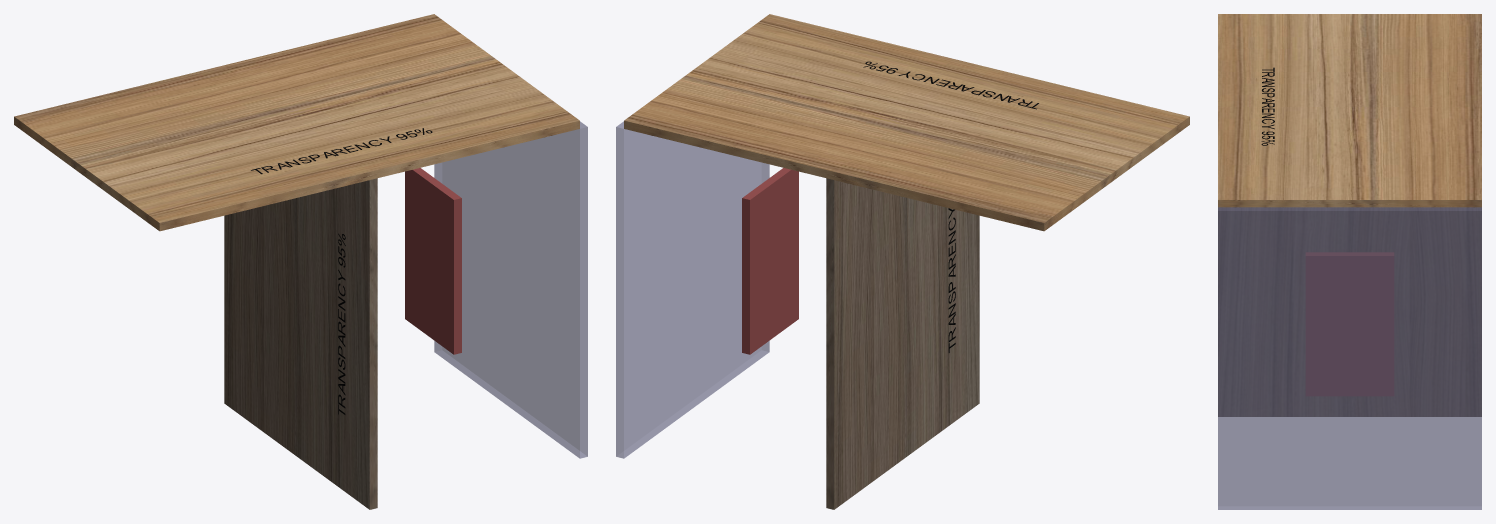
The model's file is twoParts-transparent95.dae.
The picture shows the model from 3 angles, left to right: view 1: azimuth 30°, elevation 25°; view 2: azimuth 150°, elevation 25°; view 3: azimuth 270°, elevation 25°; orthographic projection. The views are drawn at different scales.
Visible parts, largest first — view 1: {9E17036A-F9A7-4765-8C77-16E72C2BB365}_Node, {23326354-ABCD-45ce-9FBE-4A1391C59D56}_Node, {8E9E5EF7-4308-4d36-BEDC-4DC882465429}_Node, {6AE4157C-62B4-445f-B263-50D75C82B3E6}_Node, {04D79CC0-455F-48c5-B78E-AAC167005293}_Node, {F1758E8E-E6D3-41f9-9191-6DE4BAF6BD73}_Node; view 2: {9E17036A-F9A7-4765-8C77-16E72C2BB365}_Node, {23326354-ABCD-45ce-9FBE-4A1391C59D56}_Node, {8E9E5EF7-4308-4d36-BEDC-4DC882465429}_Node, {6AE4157C-62B4-445f-B263-50D75C82B3E6}_Node, {F1758E8E-E6D3-41f9-9191-6DE4BAF6BD73}_Node; view 3: {8E9E5EF7-4308-4d36-BEDC-4DC882465429}_Node, {9E17036A-F9A7-4765-8C77-16E72C2BB365}_Node, {23326354-ABCD-45ce-9FBE-4A1391C59D56}_Node, {6AE4157C-62B4-445f-B263-50D75C82B3E6}_Node, {F1758E8E-E6D3-41f9-9191-6DE4BAF6BD73}_Node.
Boxes of the visible parts, <box> form: {9E17036A-F9A7-4765-8C77-16E72C2BB365}_Node: <box>14,14,579,231</box>; {23326354-ABCD-45ce-9FBE-4A1391C59D56}_Node: <box>224,178,377,509</box>; {8E9E5EF7-4308-4d36-BEDC-4DC882465429}_Node: <box>434,121,587,458</box>; {6AE4157C-62B4-445f-B263-50D75C82B3E6}_Node: <box>405,168,461,354</box>; {04D79CC0-455F-48c5-B78E-AAC167005293}_Node: <box>338,233,345,414</box>; {F1758E8E-E6D3-41f9-9191-6DE4BAF6BD73}_Node: <box>251,128,432,174</box>; {9E17036A-F9A7-4765-8C77-16E72C2BB365}_Node: <box>624,14,1189,231</box>; {23326354-ABCD-45ce-9FBE-4A1391C59D56}_Node: <box>826,178,979,509</box>; {8E9E5EF7-4308-4d36-BEDC-4DC882465429}_Node: <box>616,121,769,458</box>; {6AE4157C-62B4-445f-B263-50D75C82B3E6}_Node: <box>742,168,798,354</box>; {F1758E8E-E6D3-41f9-9191-6DE4BAF6BD73}_Node: <box>863,61,1038,109</box>; {8E9E5EF7-4308-4d36-BEDC-4DC882465429}_Node: <box>1218,207,1481,509</box>; {9E17036A-F9A7-4765-8C77-16E72C2BB365}_Node: <box>1218,14,1481,207</box>; {23326354-ABCD-45ce-9FBE-4A1391C59D56}_Node: <box>1218,207,1481,416</box>; {6AE4157C-62B4-445f-B263-50D75C82B3E6}_Node: <box>1306,252,1393,395</box>; {F1758E8E-E6D3-41f9-9191-6DE4BAF6BD73}_Node: <box>1261,67,1274,145</box>.
Bounding box in the file's own units: 1.02 × 0.7695 × 0.6.
Materials: 5 (2 with a texture image).
